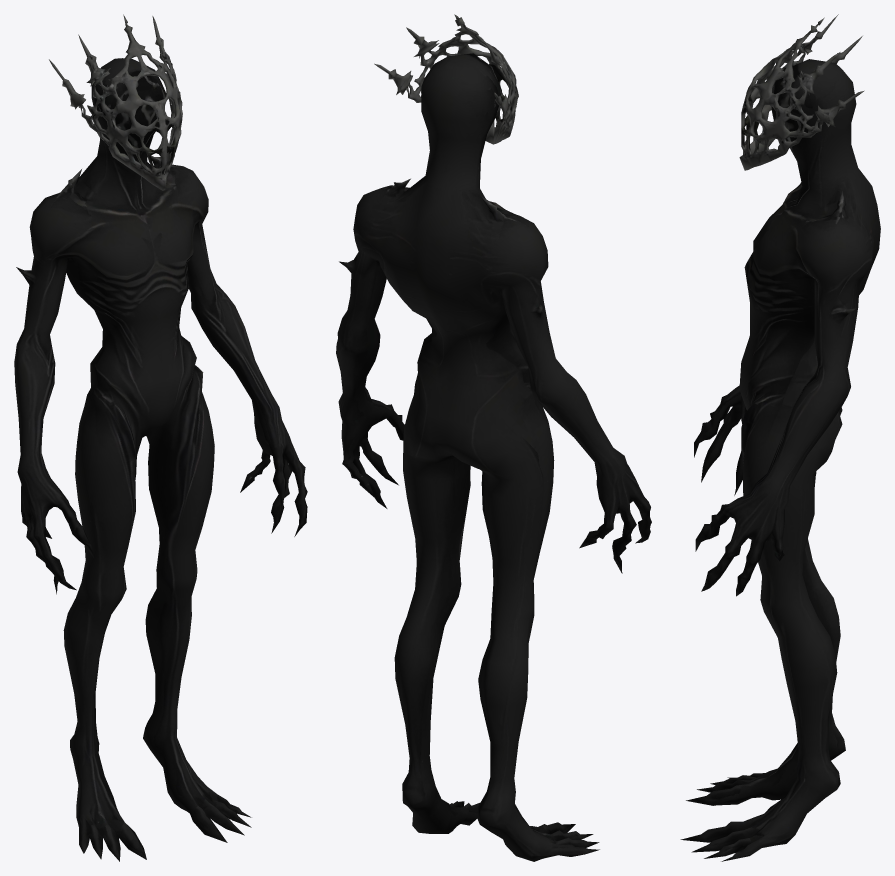
3 views of the same model, side by side, from view 1: azimuth 30°, elevation 25°; view 2: azimuth 150°, elevation 25°; view 3: azimuth 270°, elevation 25° (orthographic). The views are drawn at different scales.
Visible parts, largest first — view 1: tripo_node_1a724215-b32f-40b0-8dec-ad1762793ddc; view 2: tripo_node_1a724215-b32f-40b0-8dec-ad1762793ddc; view 3: tripo_node_1a724215-b32f-40b0-8dec-ad1762793ddc.
Boxes of the visible parts, x1,y1,x2,y2 form: tripo_node_1a724215-b32f-40b0-8dec-ad1762793ddc: (14,14,307,861); tripo_node_1a724215-b32f-40b0-8dec-ad1762793ddc: (336,14,651,861); tripo_node_1a724215-b32f-40b0-8dec-ad1762793ddc: (680,14,880,861).
Size of the model in its own units: 0.3613 by 0.998 by 0.2246.
1 material, 1 textured.
